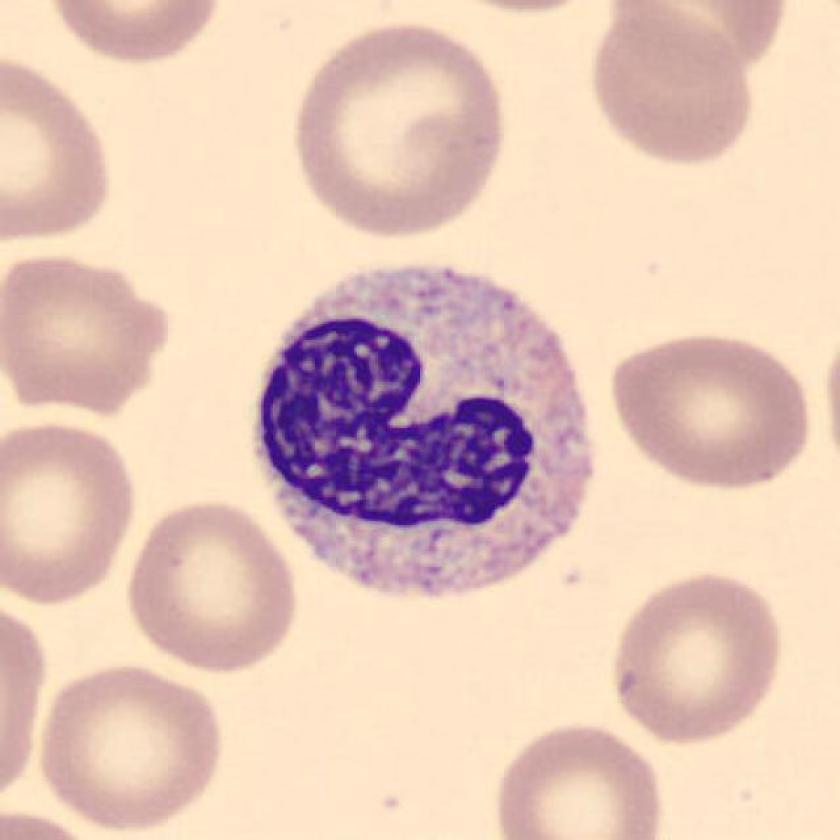neutrophil: (260, 269, 594, 596)
